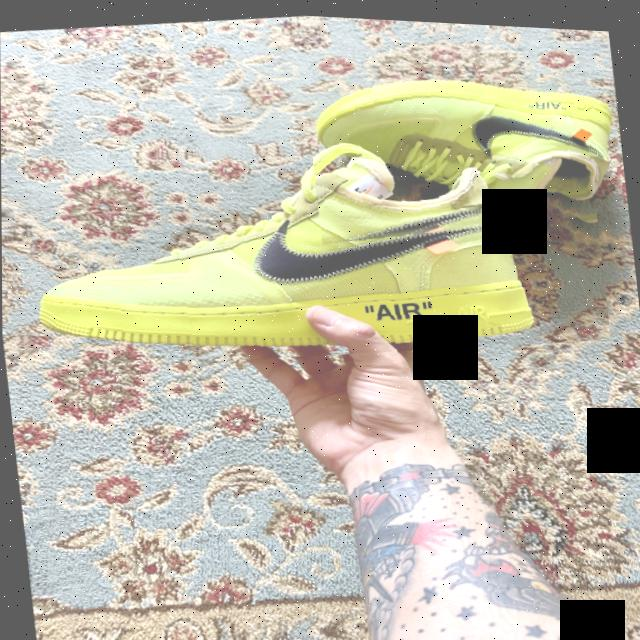shoe: (1, 98, 610, 395), (304, 50, 630, 253)
